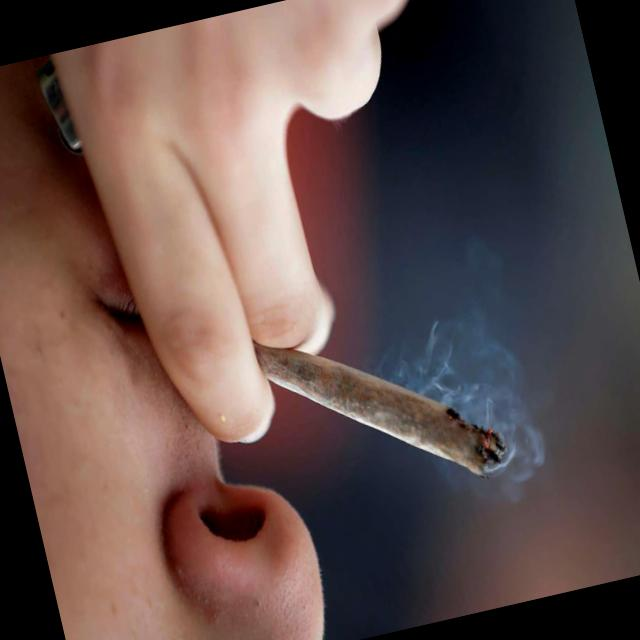smoke: (250, 294, 516, 524)
